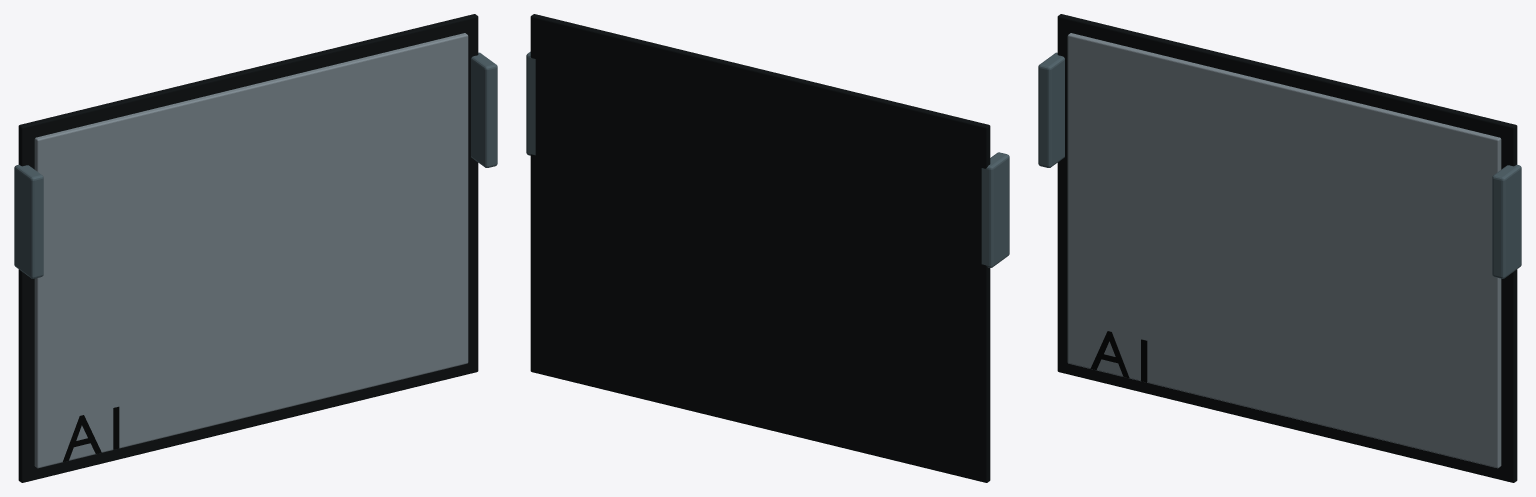
The model's file is slot_a1.obj.
3 views of the same model, side by side, from view 1: azimuth 30°, elevation 25°; view 2: azimuth 150°, elevation 25°; view 3: azimuth 330°, elevation 25° (orthographic).
Visible parts, largest first — view 1: flex__slot_a1__insert, flex__slot_a1__recess, flex__slot_a1__locator, flex__slot_a1__locator.001, flex__slot_a1__id; view 2: flex__slot_a1__recess, flex__slot_a1__locator, flex__slot_a1__locator.001; view 3: flex__slot_a1__insert, flex__slot_a1__recess, flex__slot_a1__locator.001, flex__slot_a1__locator, flex__slot_a1__id.
Boxes of the visible parts, x1,y1,x2,y2 form: flex__slot_a1__insert: [34, 33, 468, 468]; flex__slot_a1__recess: [18, 14, 478, 482]; flex__slot_a1__locator: [14, 164, 43, 278]; flex__slot_a1__locator.001: [471, 52, 497, 167]; flex__slot_a1__id: [63, 406, 119, 461]; flex__slot_a1__recess: [530, 14, 990, 482]; flex__slot_a1__locator: [981, 152, 1009, 267]; flex__slot_a1__locator.001: [526, 51, 535, 155]; flex__slot_a1__insert: [1067, 33, 1501, 468]; flex__slot_a1__recess: [1057, 14, 1517, 482]; flex__slot_a1__locator.001: [1492, 164, 1521, 278]; flex__slot_a1__locator: [1038, 52, 1064, 167]; flex__slot_a1__id: [1090, 331, 1147, 382].
Size of the model in its own units: 0.144 by 0.105 by 0.01.
